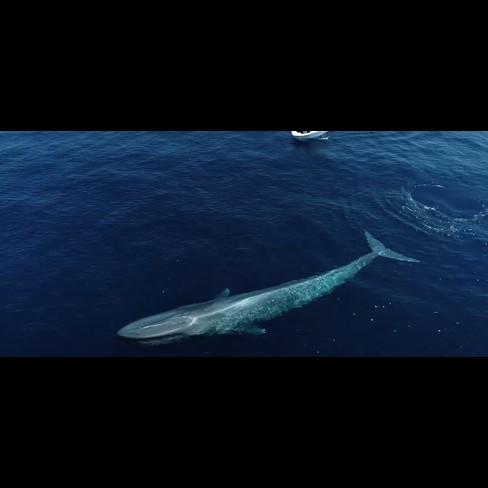bluewhale: (113, 225, 424, 351)
